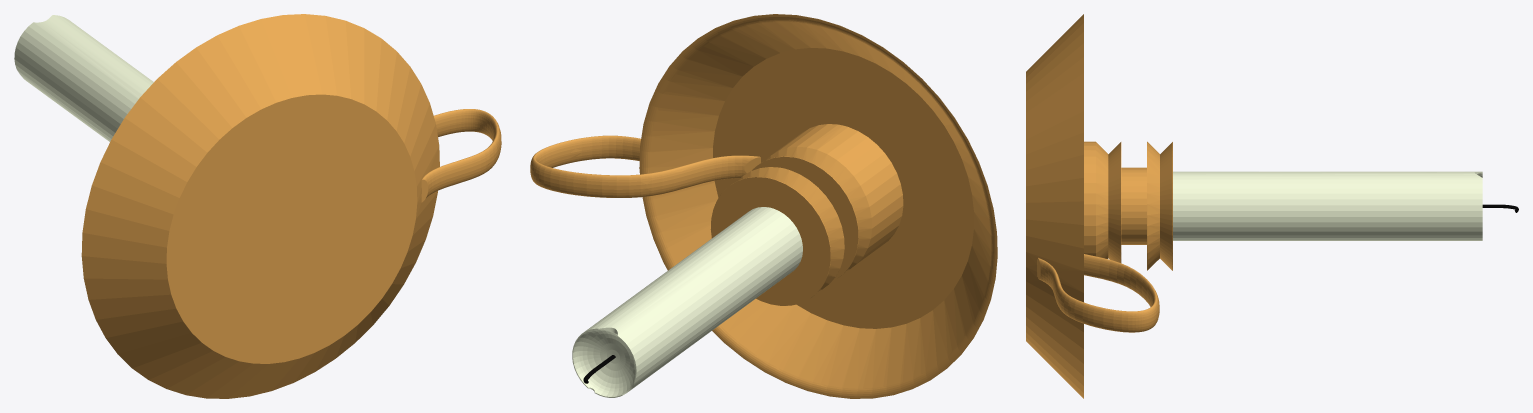
File: smallcandle.fbx
The picture shows the model from 3 angles, left to right: view 1: azimuth 30°, elevation 25°; view 2: azimuth 150°, elevation 25°; view 3: azimuth 270°, elevation 25°; orthographic projection. The views are drawn at different scales.
Parts seen in each view (by area): view 1: ljus1; view 2: ljus1; view 3: ljus1.
Part boxes in pixels (x1,y1,x2,y2): ljus1: (14,14,501,398); ljus1: (530,14,997,398); ljus1: (1026,14,1518,398).
Bounding box in the file's own units: 12196 × 9991 × 12789.
